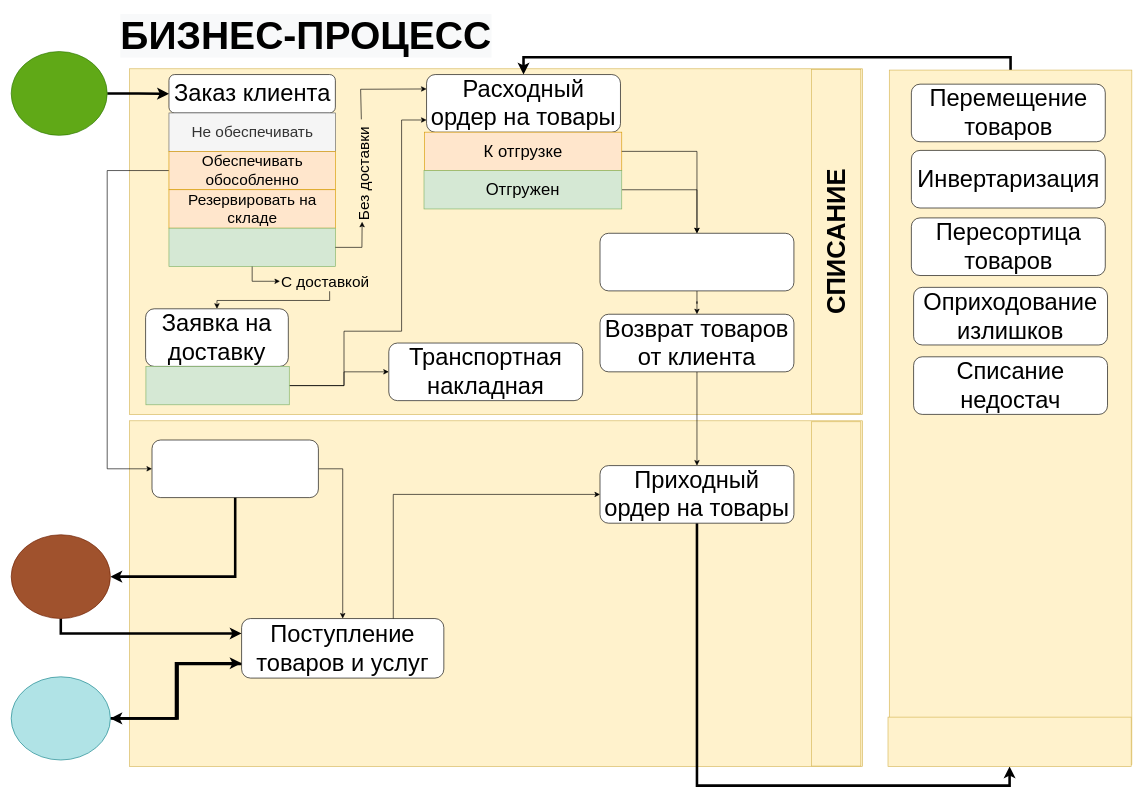
The diagram is 1143 pixels wide and 803 high, and some of its shapes have lost their labels. Here are the shapes that lost their labels. From the top down, the box of each, then its label:
(11, 51, 107, 135): Клиент
(168, 228, 335, 267): Отгрузить
(599, 233, 794, 291): Реализация товаров и услуг
(145, 366, 289, 405): К отбору
(151, 439, 318, 498): Заказ поставщику
(11, 534, 110, 619): Главный поставщик
(811, 421, 861, 766): ПОСТУПЛЕНИЕ
(11, 676, 110, 760): Сторонний поставщик
(887, 716, 1131, 766): СКЛАД
